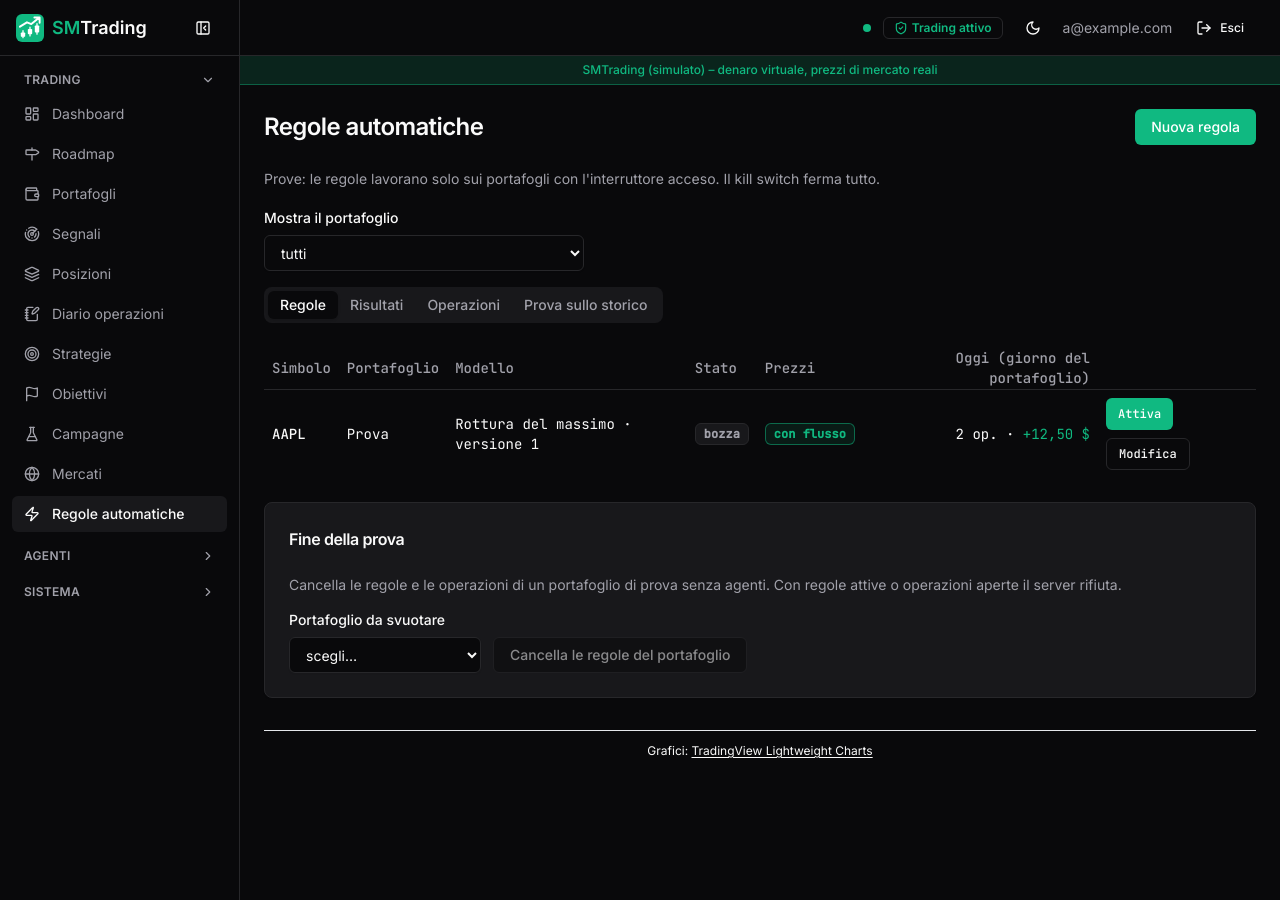
AutoRules › shows the server's Italian message when a replay is already running (429)
Click the tab "Prova sullo storico" at (586,305), box [512,291,660,319]
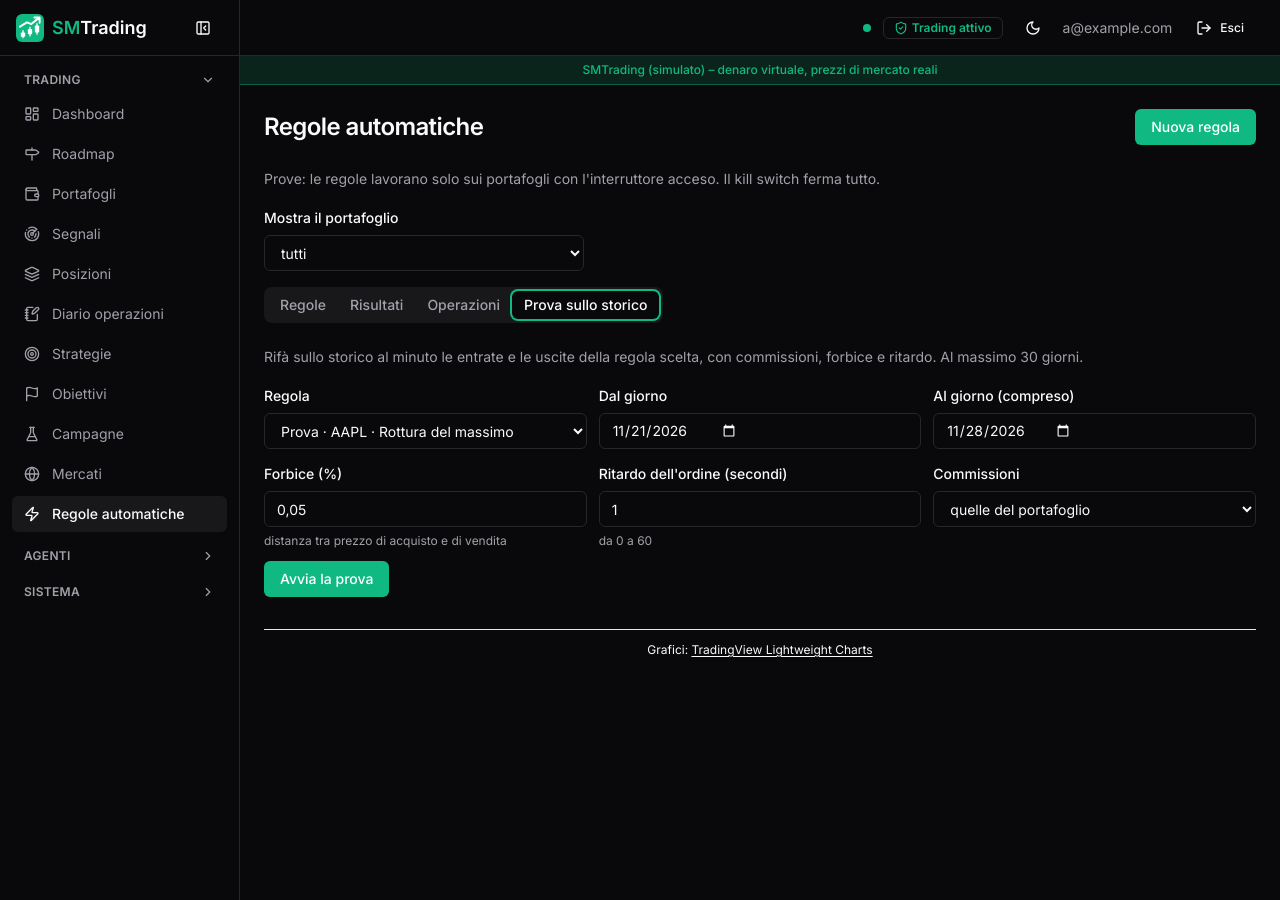
Click the button "Avvia la prova" at (327,579), box [264,561,389,597]
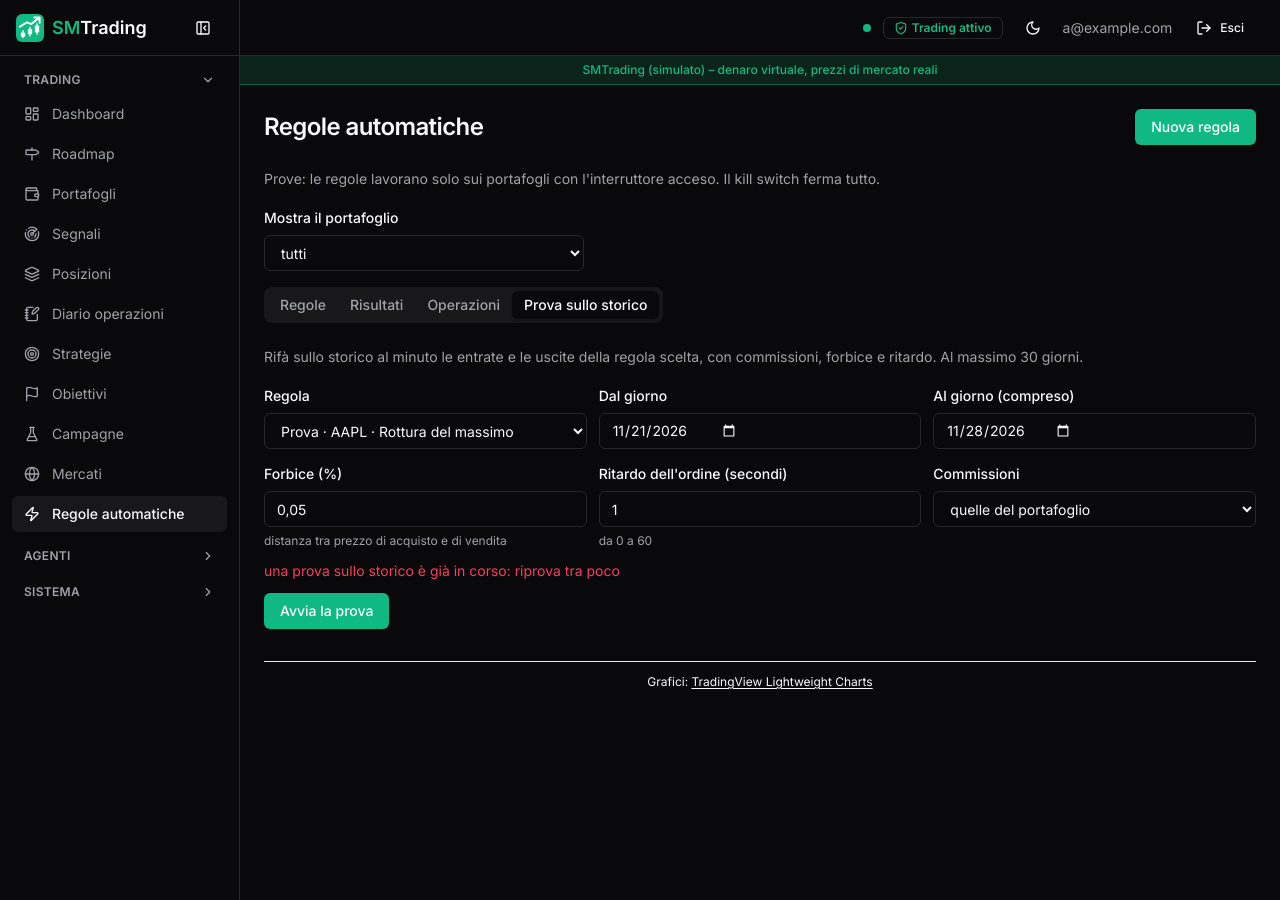
Expected: the message "una prova sullo storico è già in corso: riprova tra poco" is shown, [264,562,620,579]
